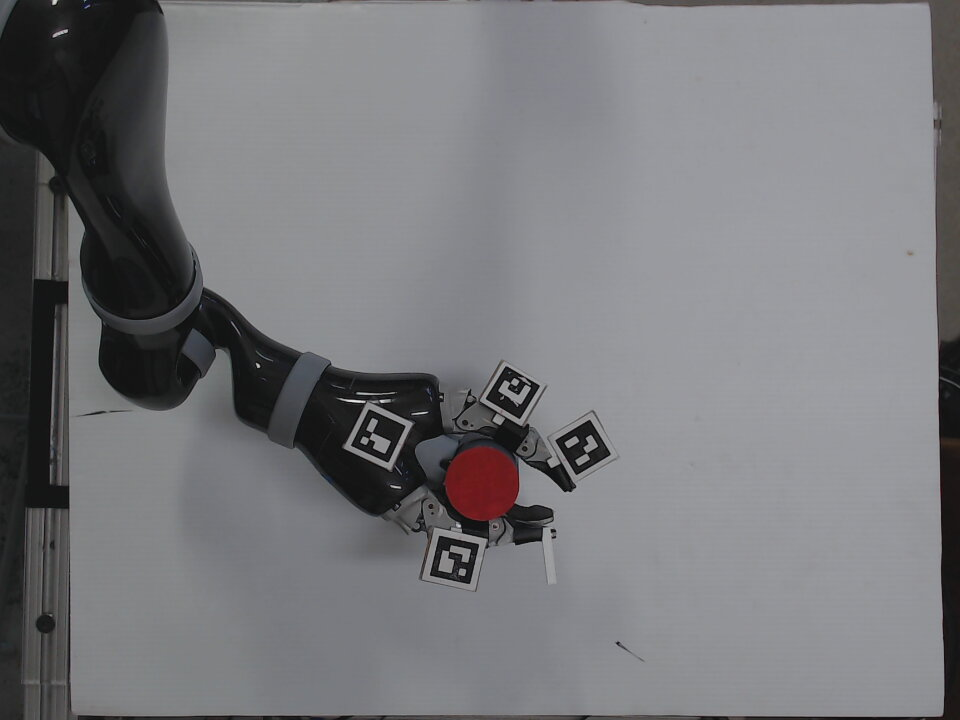cylinder: (439, 436, 524, 525)
